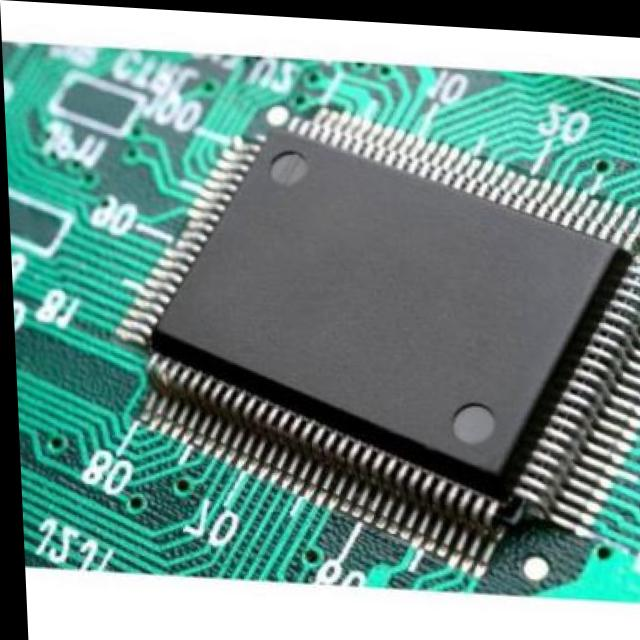IC chip: (114, 103, 640, 591)
